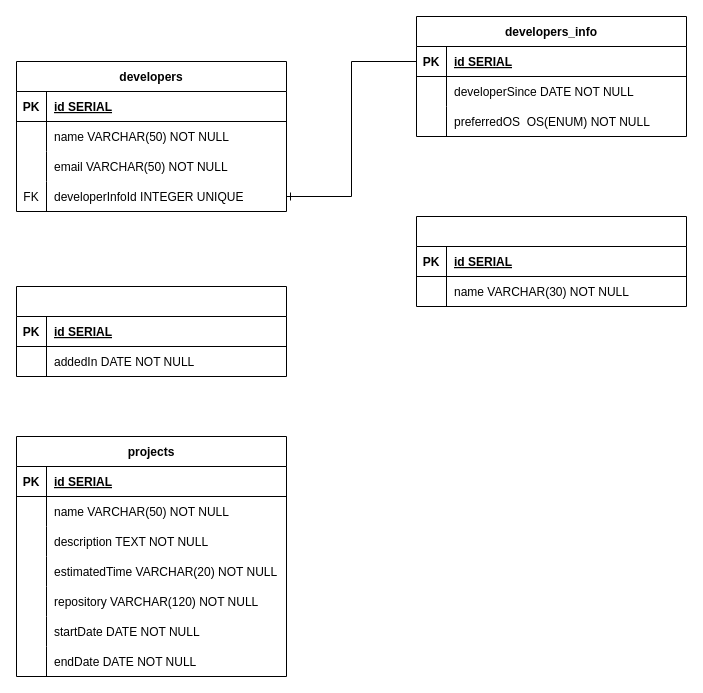
Image size: 703x693. Some labels were removed from this diagram. Here are the shapes that lost their labels. From the top down, the box of each, then its label:
(416, 216, 686, 306): technologies
(16, 286, 286, 376): projects_technologies
